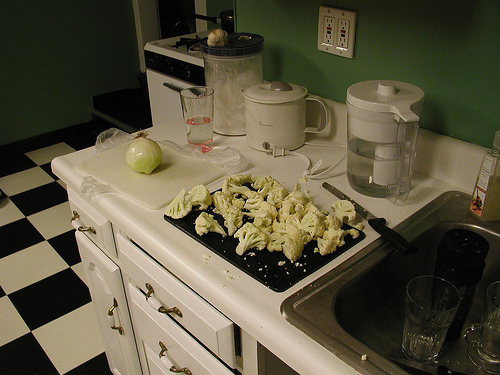cauliflower: (162, 172, 358, 259)
